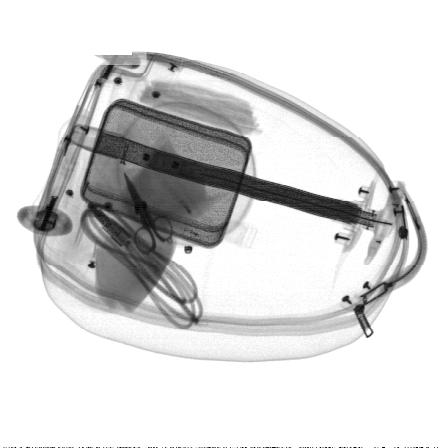Scissors: (124, 171, 174, 254)
